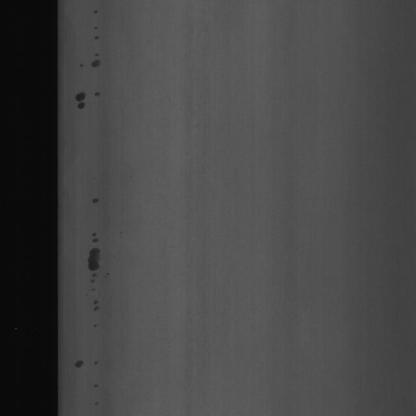oil_spot: (87, 191, 103, 321), (88, 9, 104, 99), (74, 63, 87, 120), (69, 340, 82, 387)
